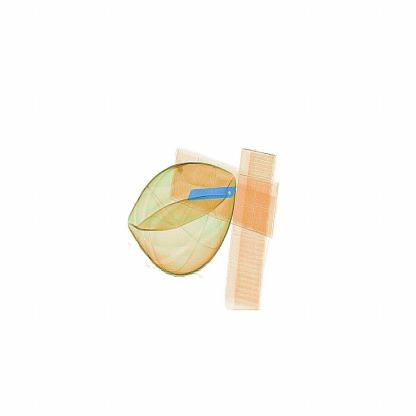pliers: (182, 176, 245, 210)
